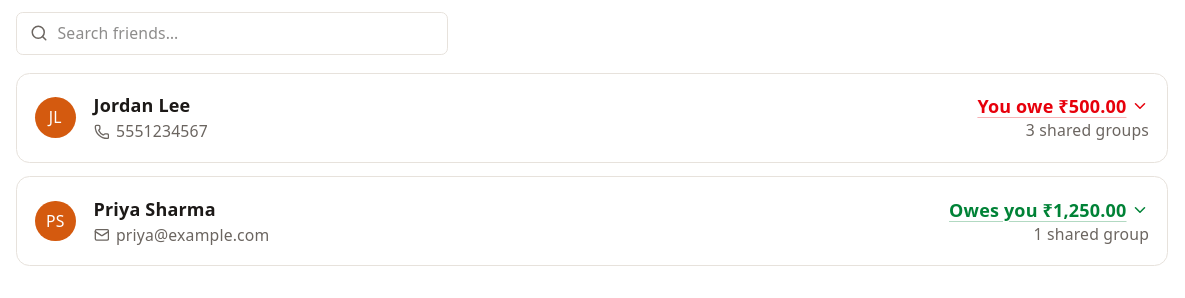
FriendsPage › search › shows a no-match message when nothing matches the search
In the search field labelled "Search friends…": point(232, 33) top-left (16, 12), bottom-right (448, 54), type "nobody"
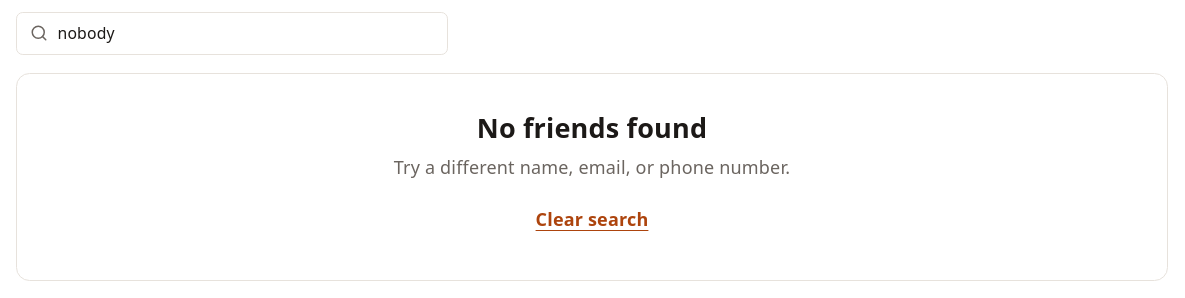
Result: the heading "No friends found" is shown at top-left (477, 108), bottom-right (707, 146)
Result: the text "Try a different name, email, or phone number." is shown at top-left (394, 156), bottom-right (790, 180)
Result: the text "Priya Sharma" is gone
